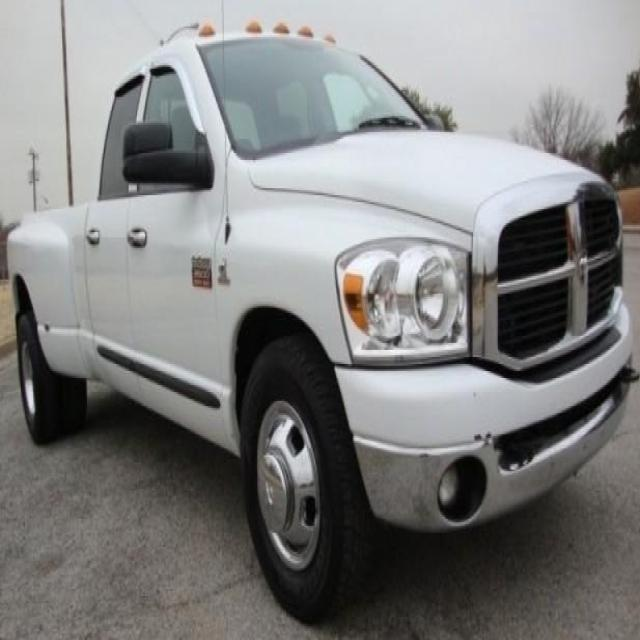CMT: (9, 22, 630, 585)
